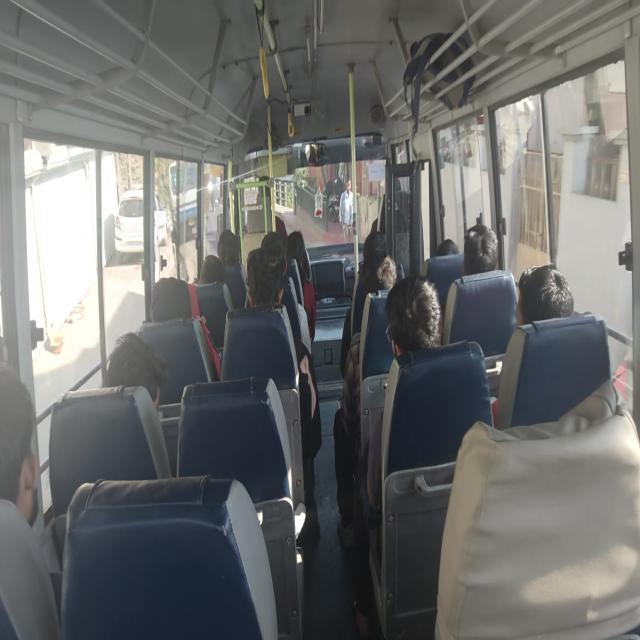person: (1, 350, 50, 528), (103, 328, 173, 414), (388, 268, 443, 368), (510, 259, 576, 342), (149, 267, 205, 333), (244, 242, 290, 316), (462, 225, 505, 293), (365, 250, 401, 296), (358, 226, 401, 258), (382, 171, 412, 211), (282, 218, 308, 264), (198, 253, 225, 293), (260, 228, 294, 259), (217, 225, 242, 259), (429, 235, 463, 258), (254, 174, 278, 204)
